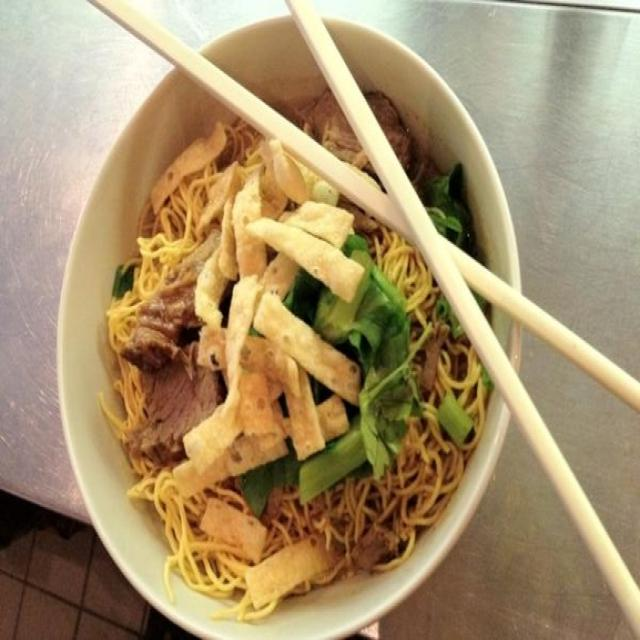面条主食: (66, 24, 512, 612)
